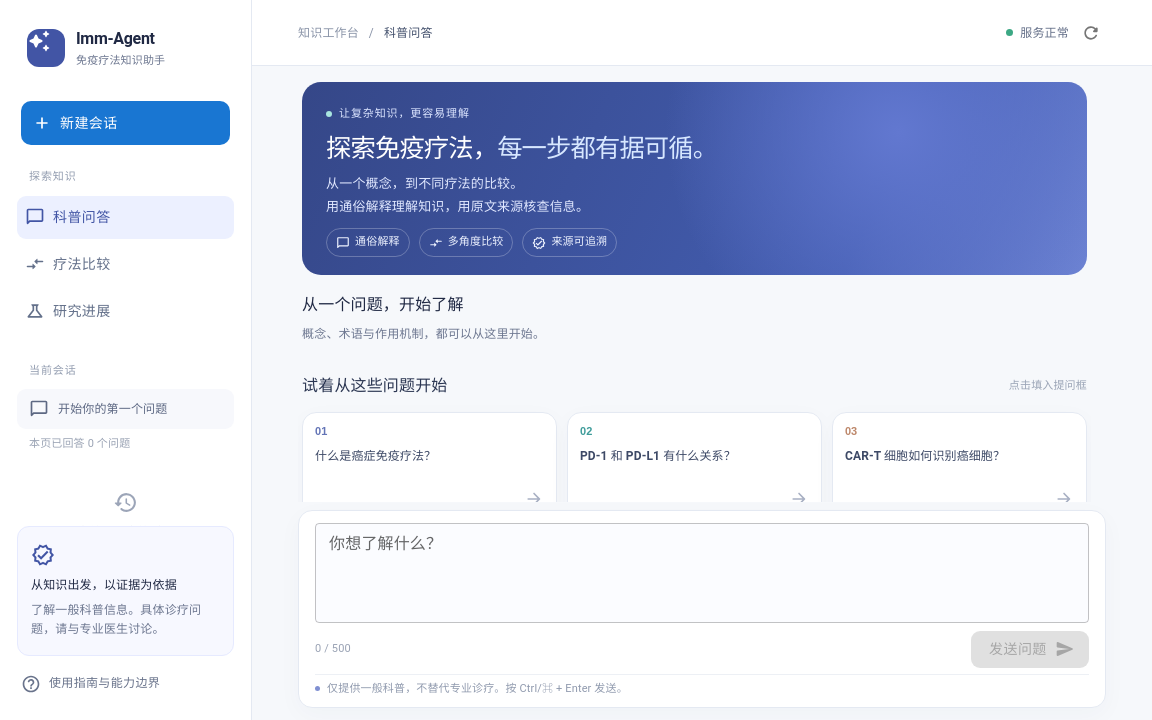
Test: retains the draft after service failure and retries once
Type "什么是癌症免疫疗法？" into the text box labelled "你想了解什么？" at (702, 543), box [329,532,1075,554]
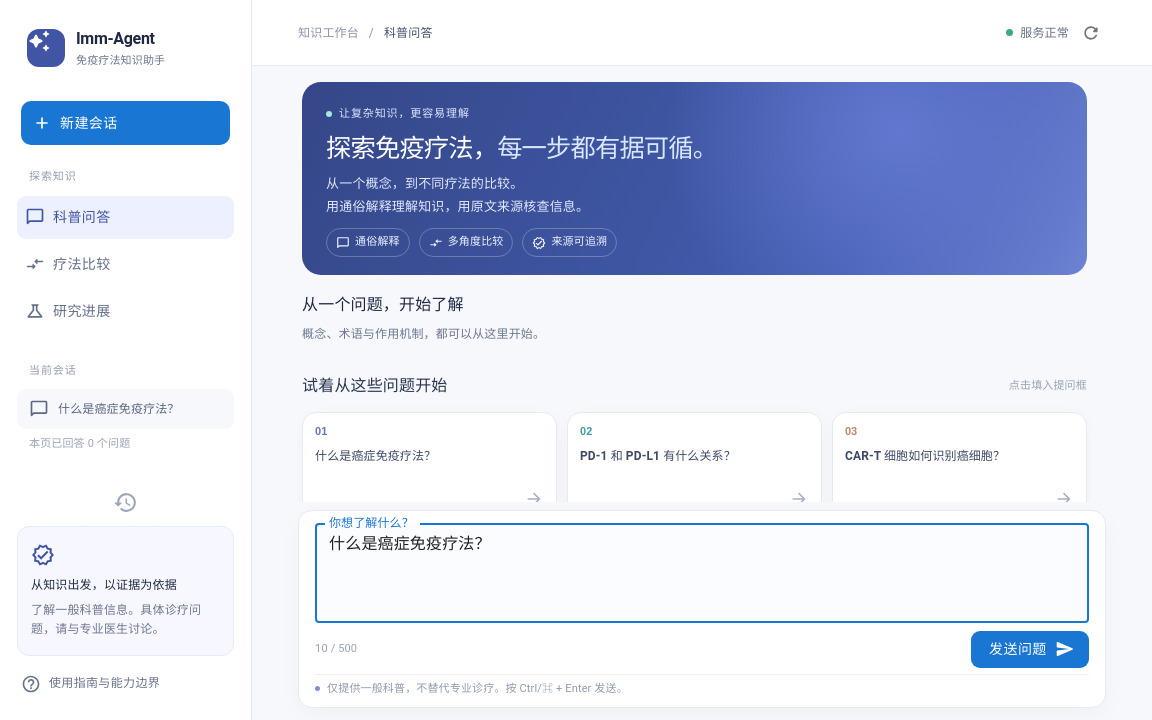
Click the button "发送问题" at (1030, 649), box [971,631,1089,668]
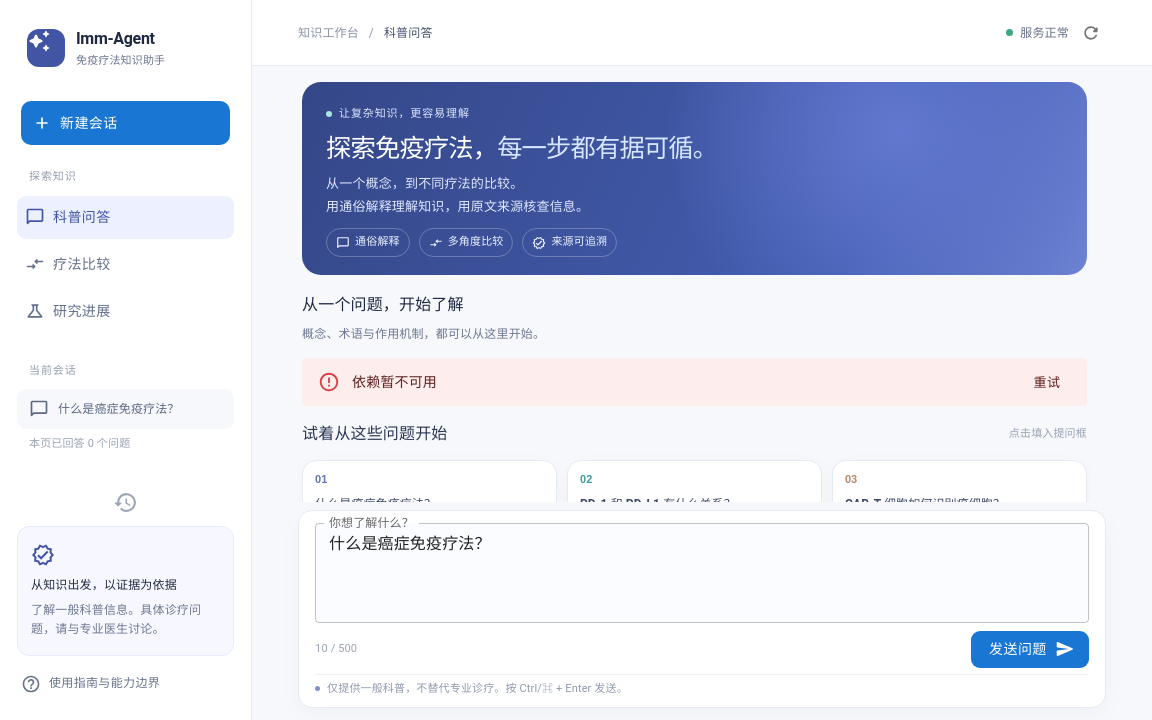
Expected: the text "依赖暂不可用" is shown, [352,374,437,390]
Click the button "重试" at (1047, 384), box [1015,368,1079,399]
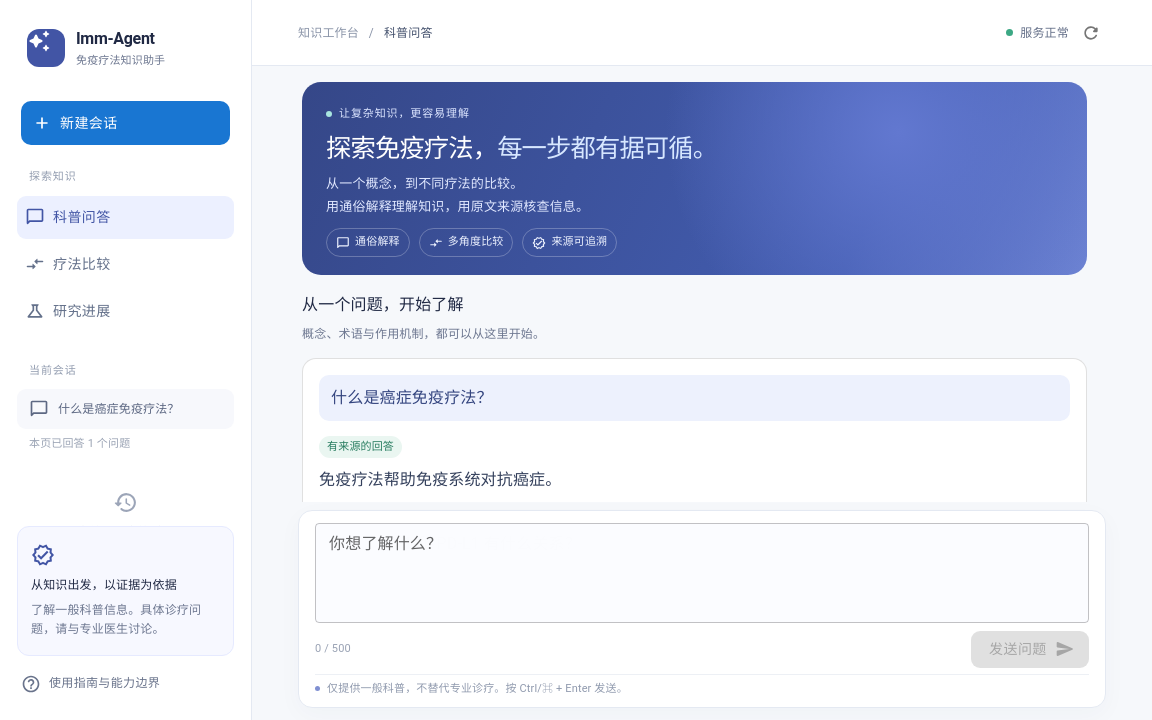
Expected: the text "免疫疗法帮助免疫系统对抗癌症。" is shown, [319,470,561,489]
Expected: the text box labelled "你想了解什么？" is empty, [329,532,1075,554]
